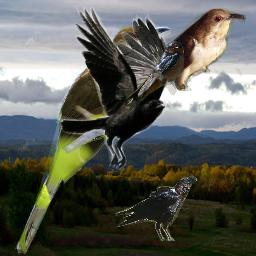Crow: (60, 7, 170, 173), (114, 176, 197, 241)
Cuckoo: (15, 23, 171, 254), (132, 8, 246, 91)
Swallow: (123, 41, 184, 119)
